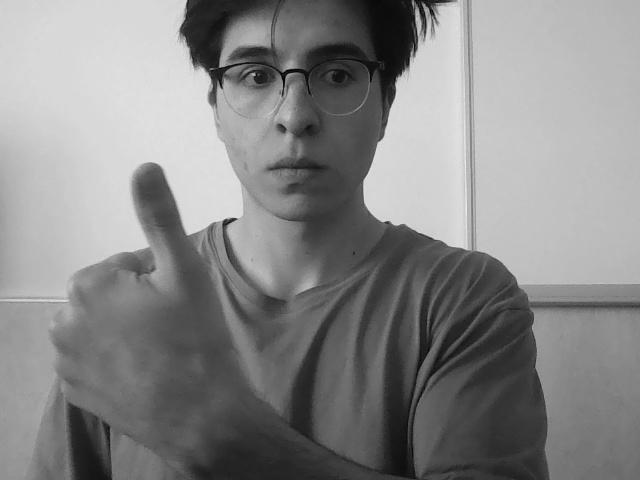friend: (40, 174, 260, 454)
